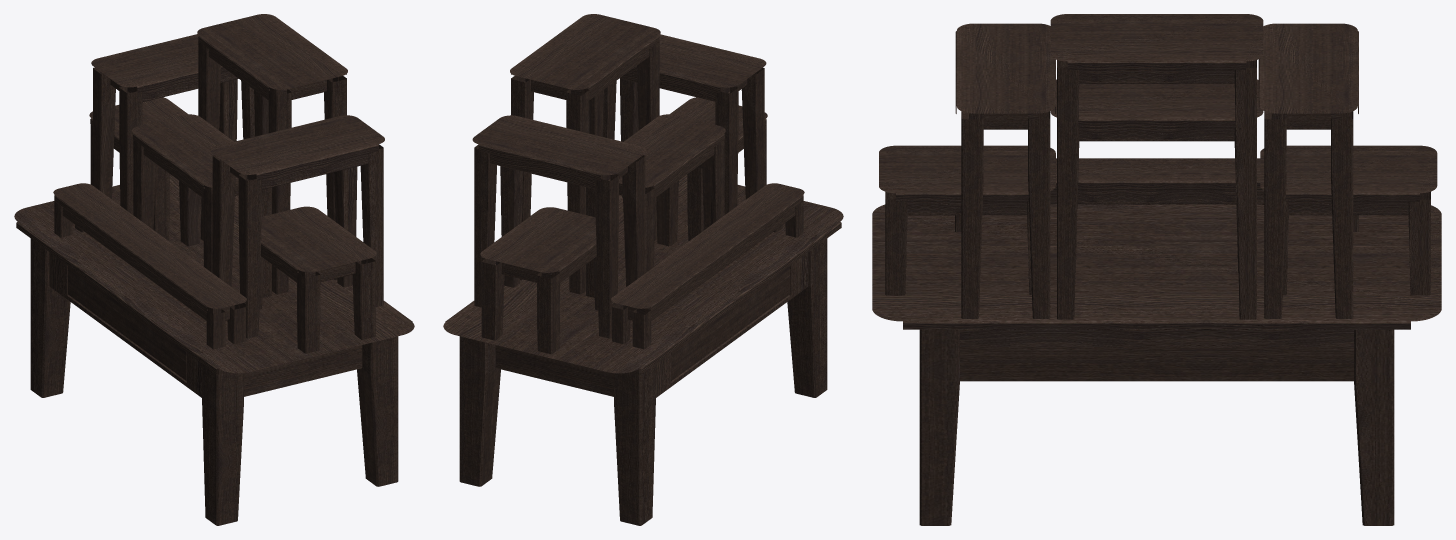
Rendered from 06_openskp_material_105.obj.
The picture shows the model from 3 angles, left to right: view 1: azimuth 30°, elevation 25°; view 2: azimuth 150°, elevation 25°; view 3: azimuth 270°, elevation 25°; orthographic projection. The views are drawn at different scales.
Visible parts, largest first — view 1: 06_openskp_material_105; view 2: 06_openskp_material_105; view 3: 06_openskp_material_105.
Boxes of the visible parts, <box> form: 06_openskp_material_105: <box>14,14,414,525</box>; 06_openskp_material_105: <box>443,14,843,525</box>; 06_openskp_material_105: <box>872,14,1441,525</box>.
Bounding box in the file's own units: 8.89 × 16 × 17.65.
Materials: 1 (1 with a texture image).
